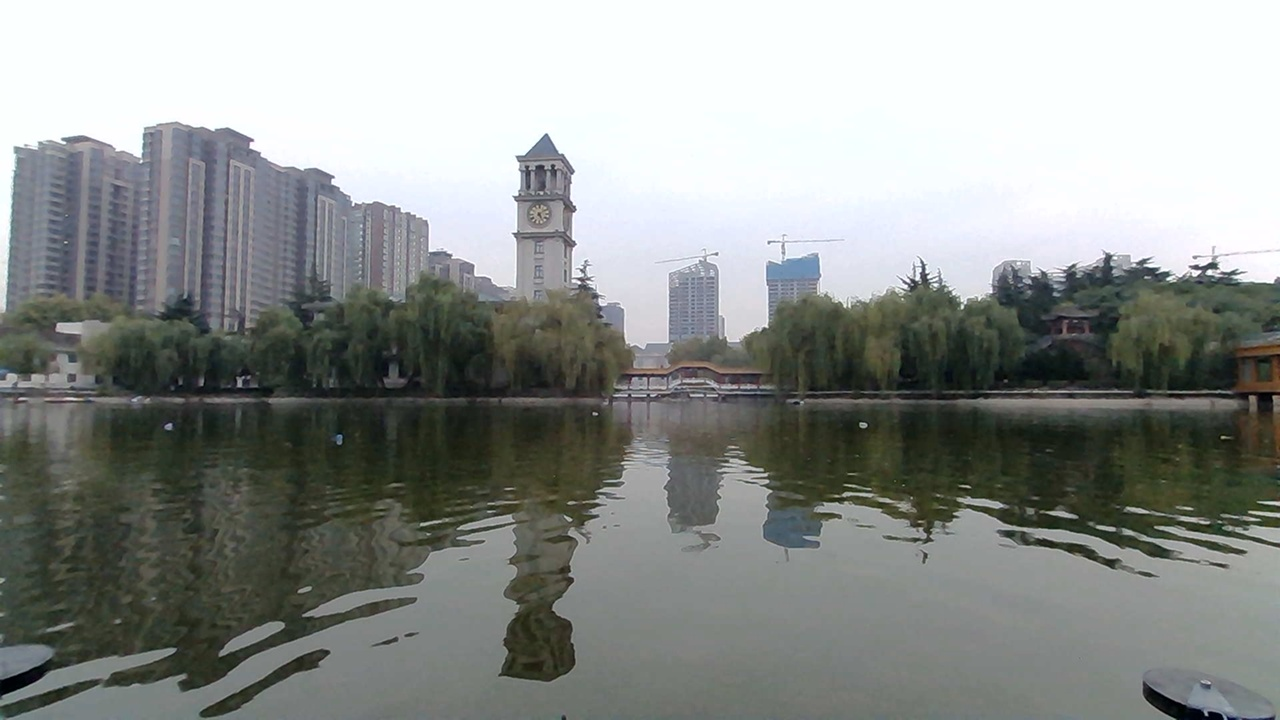bottle: (839, 411, 877, 432), (322, 428, 356, 450), (160, 409, 181, 437)
